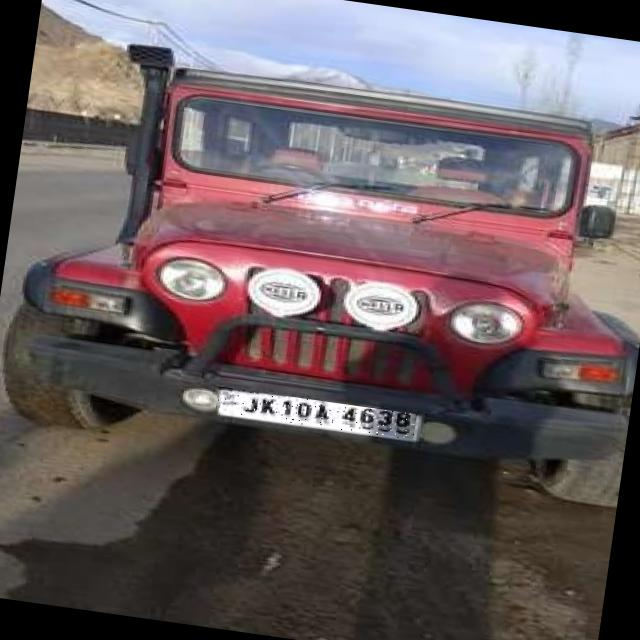Plate: (216, 388, 418, 442)
